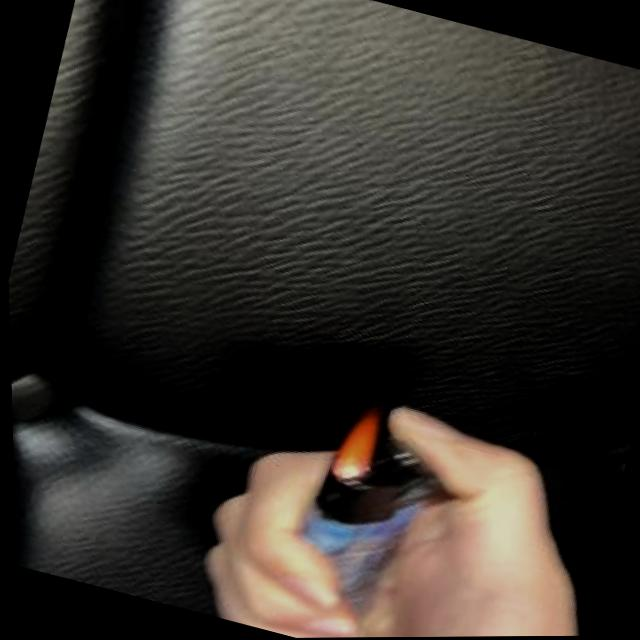fire: (325, 404, 391, 489)
